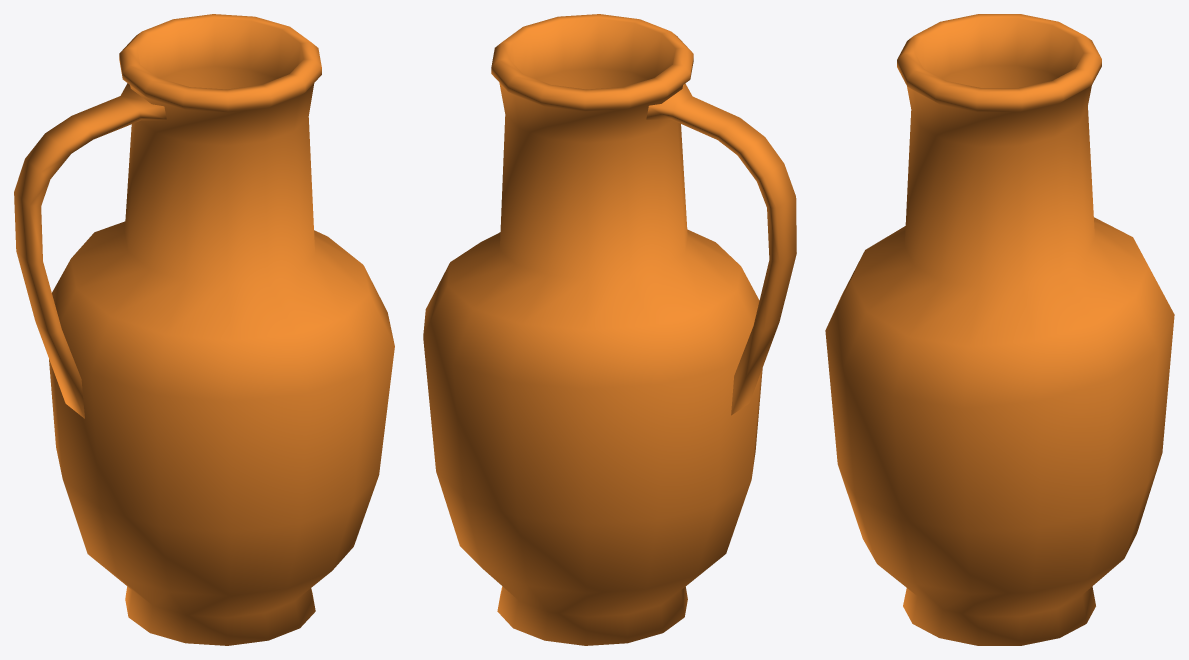
File: SM_pottery_01.fbx
3 views of the same model, side by side, from view 1: azimuth 30°, elevation 25°; view 2: azimuth 150°, elevation 25°; view 3: azimuth 270°, elevation 25° (orthographic).
Parts seen in each view (by area): view 1: Cylinder069; view 2: Cylinder069; view 3: Cylinder069.
Part boxes in pixels (x1,y1,x2,y2): Cylinder069: [14, 14, 394, 645]; Cylinder069: [423, 14, 796, 645]; Cylinder069: [825, 14, 1174, 645].
Size of the model in its own units: 19.58 by 29.77 by 17.04.
